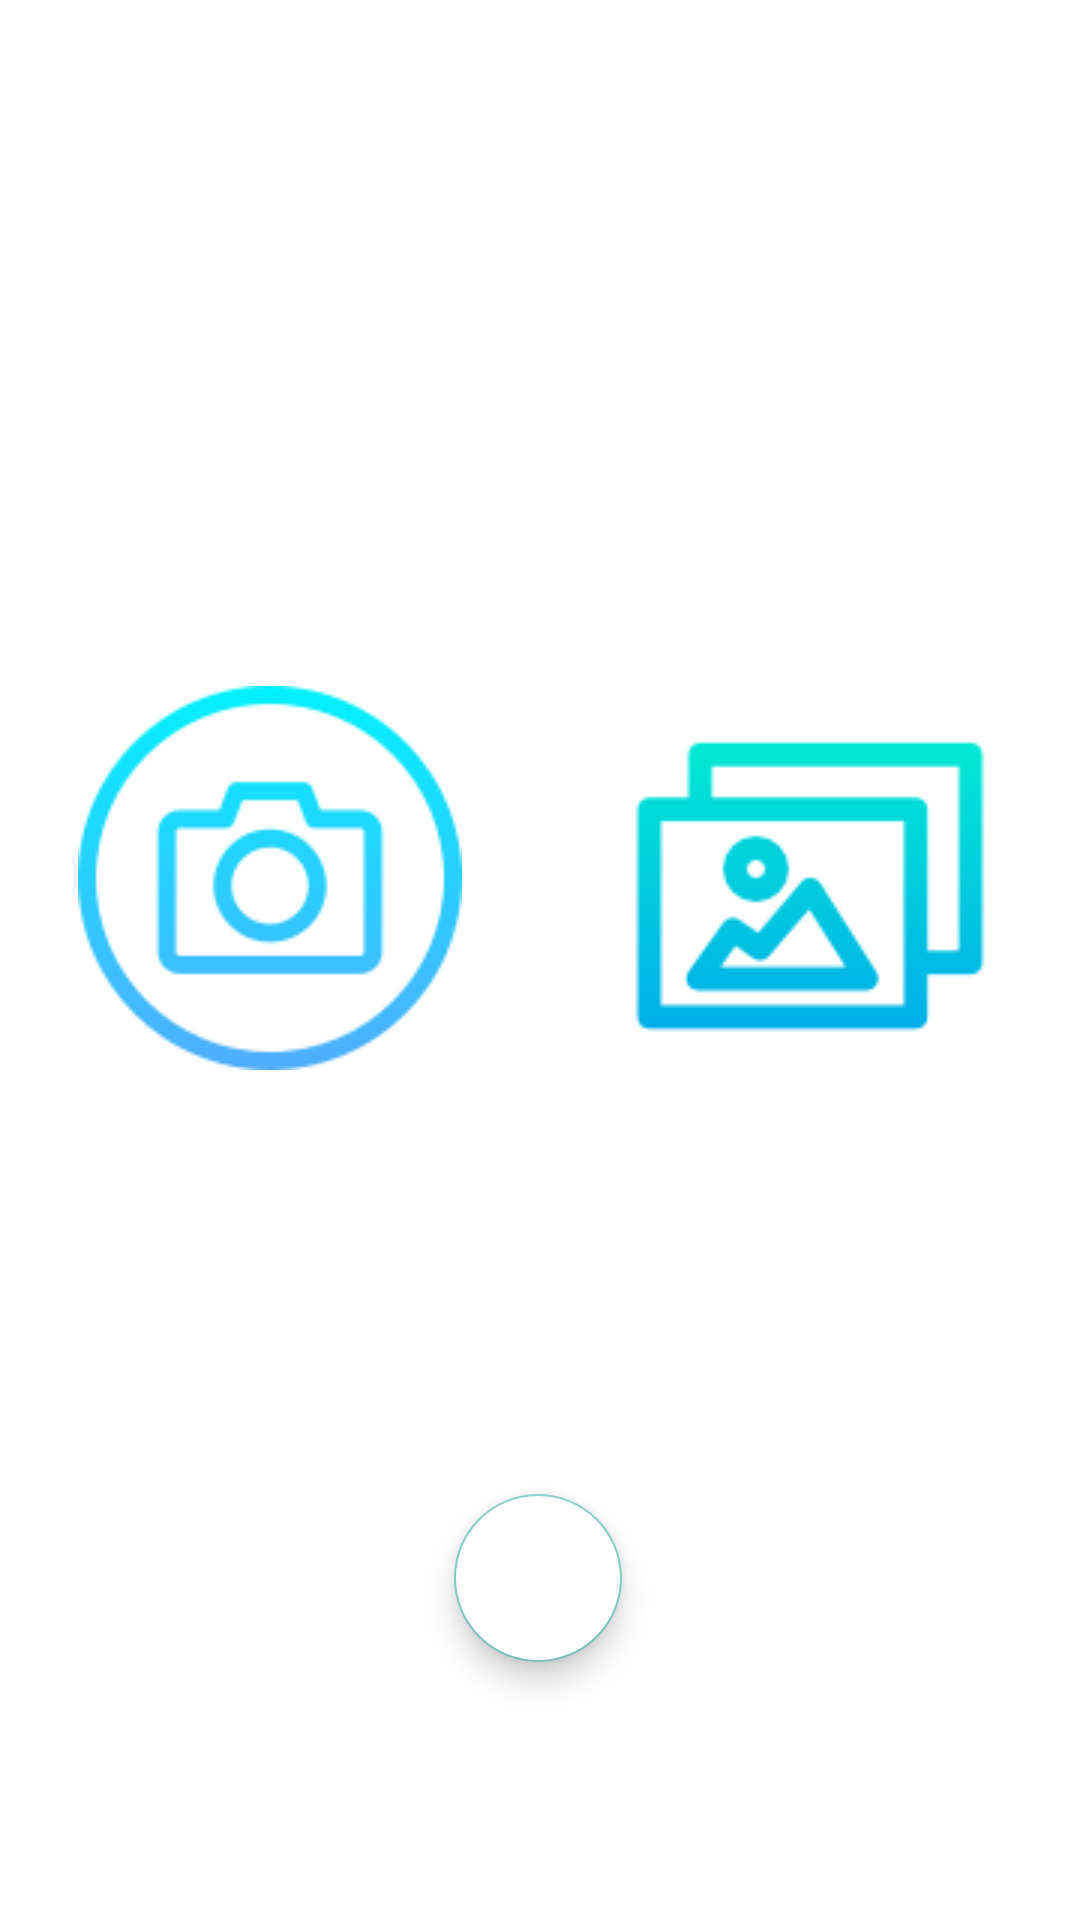

Icon click points for this 1080x1920 phone screenshot, format point (x, y):
gallery: point (810, 886)
